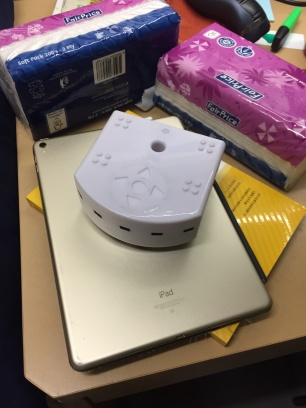thymio: (71, 109, 226, 253)
